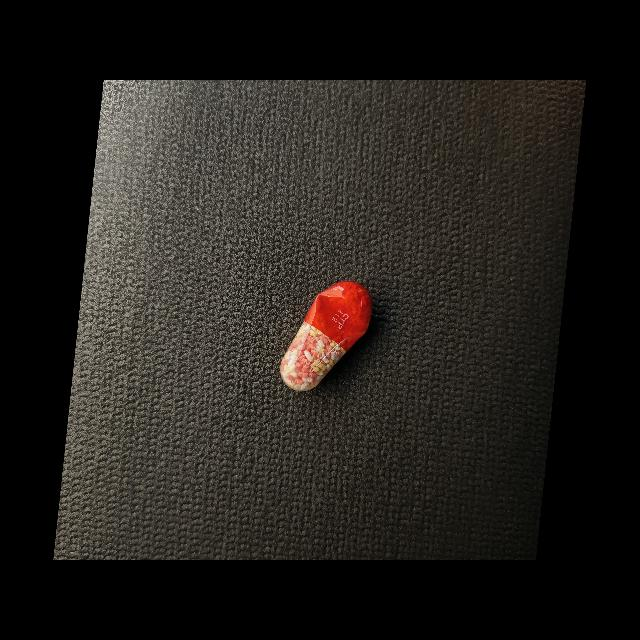Defective Capsule: (280, 281, 372, 391)
